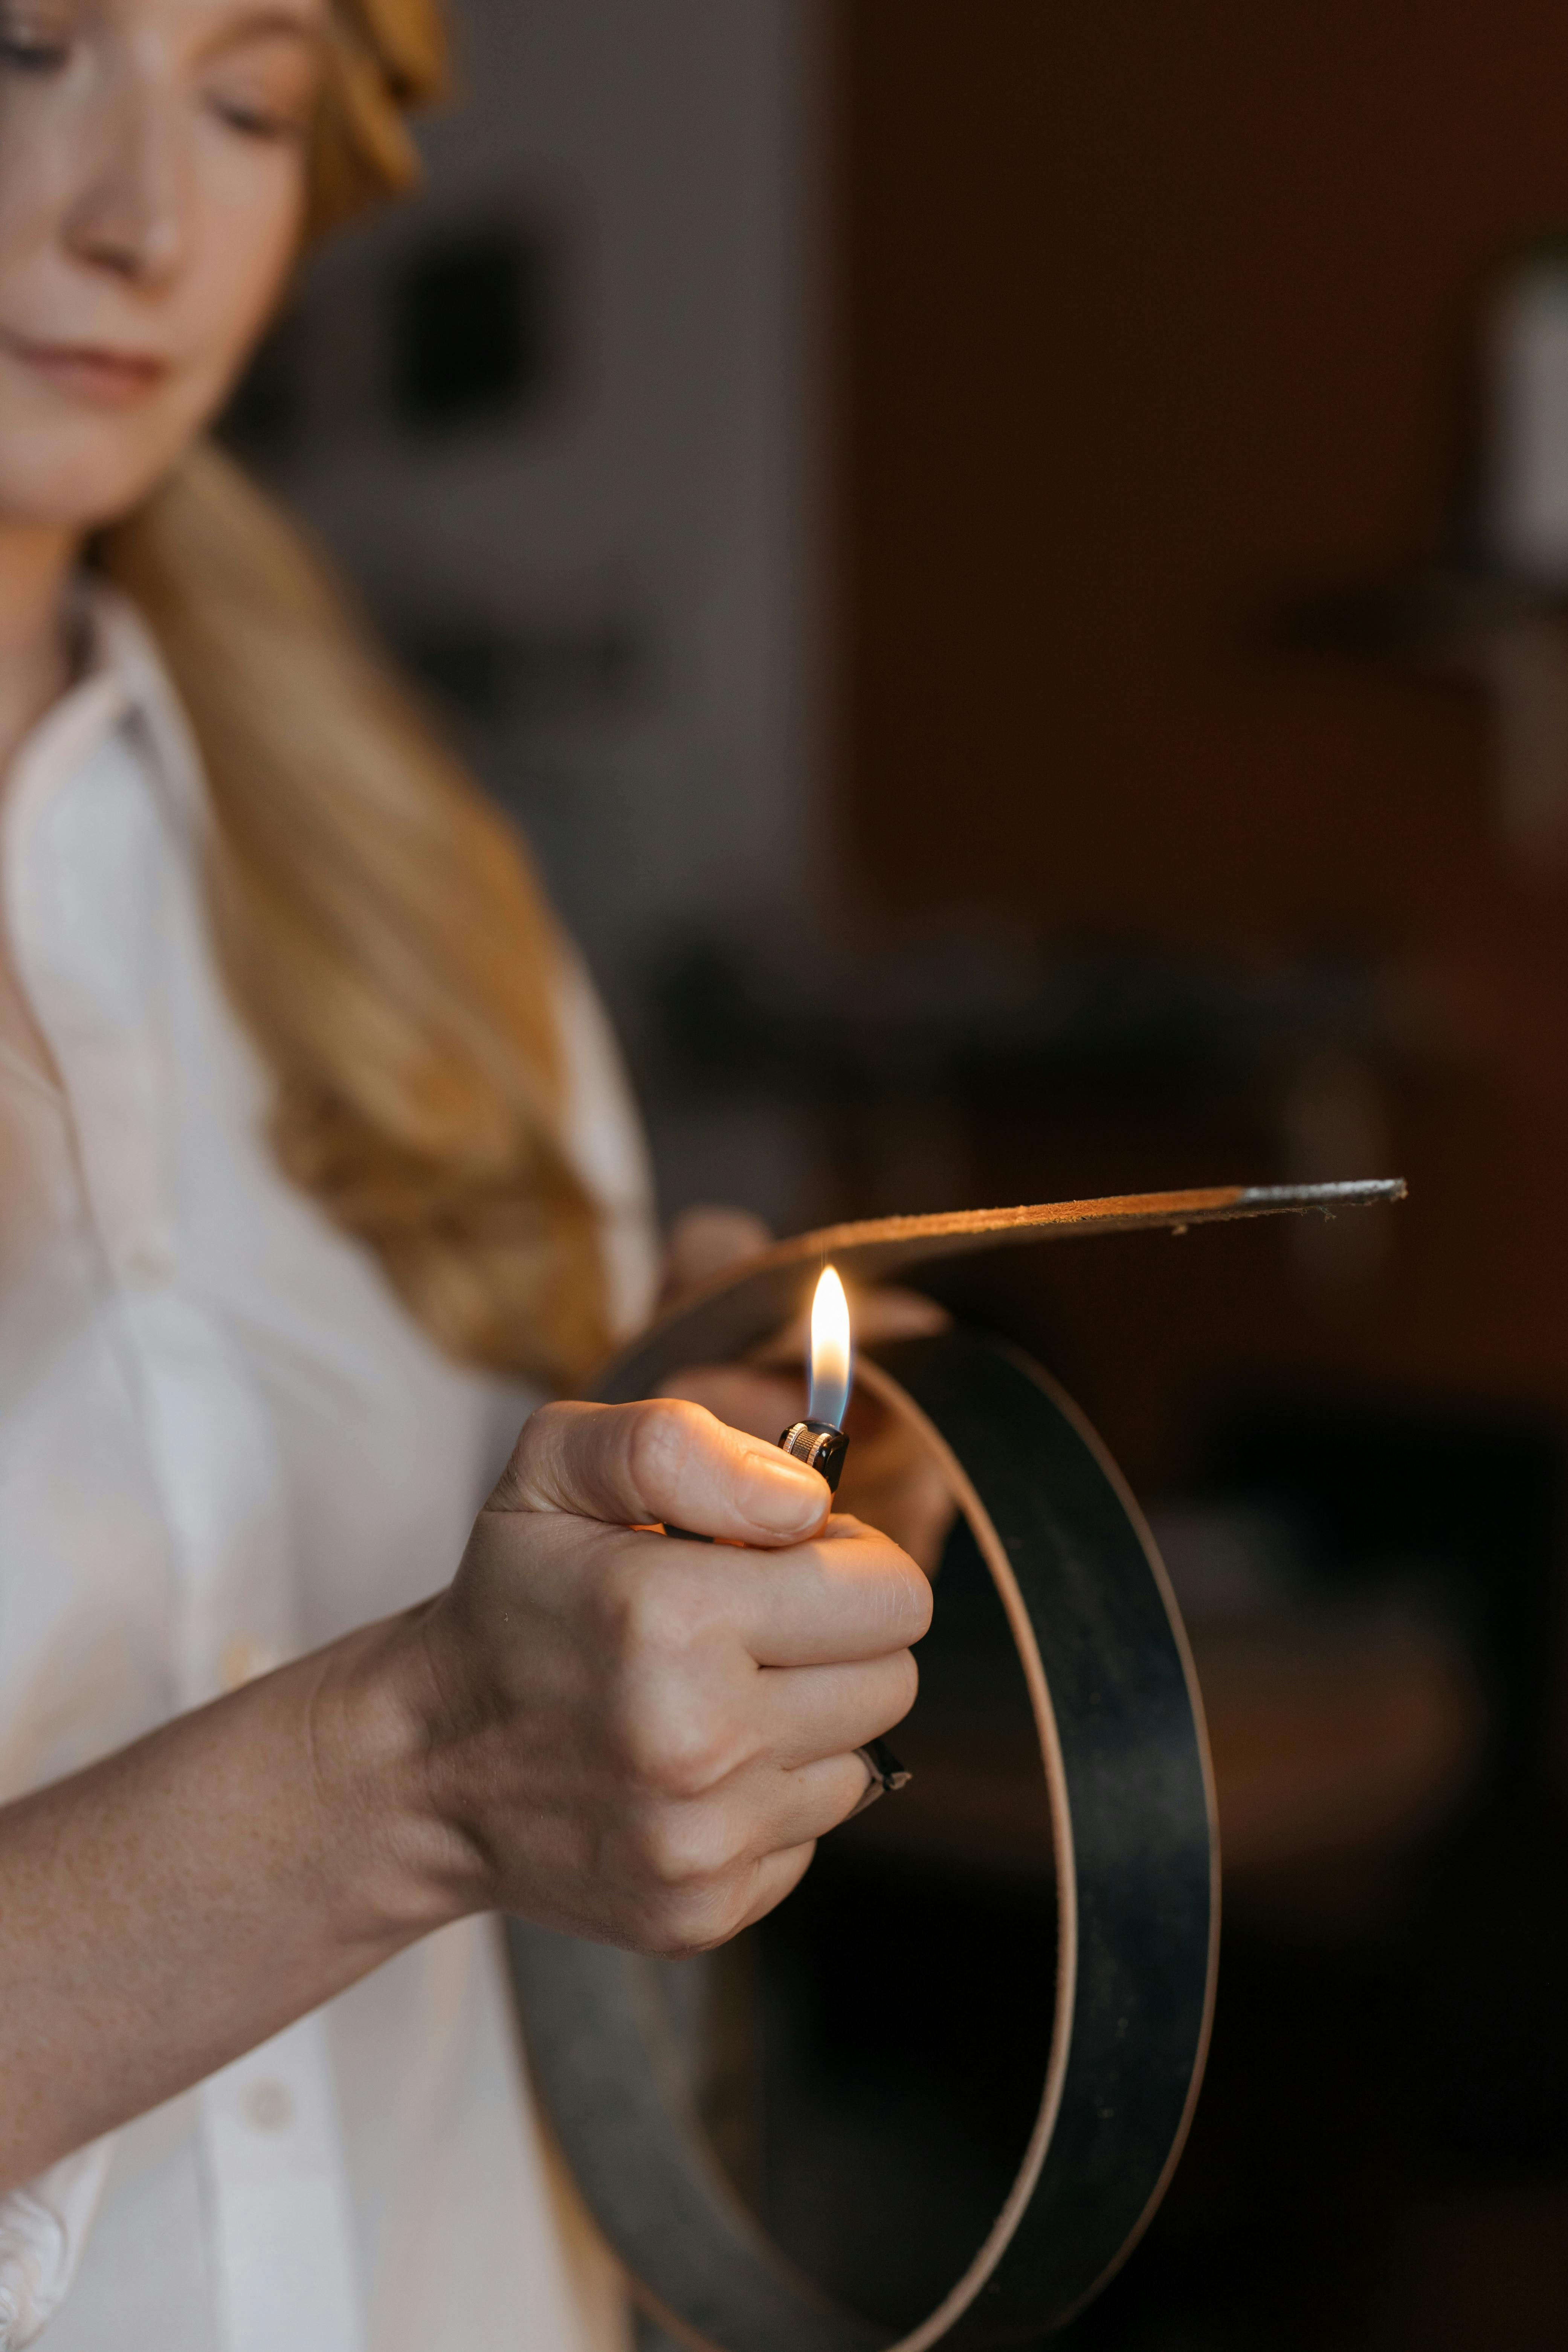Fire: (787, 1250, 877, 1451)
